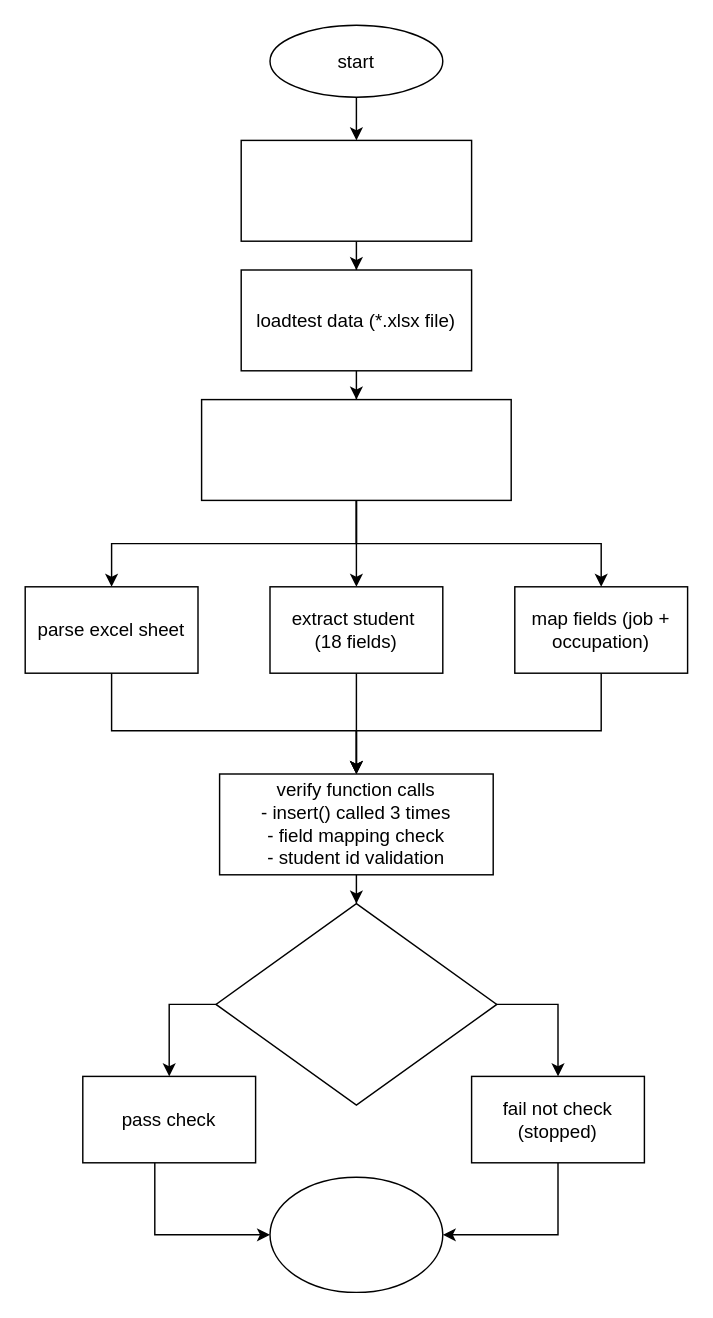
Some shapes in this 713 by 1318 pixel diagram are drawn without their labels. Here are the shapes that lost their labels. From the top down, the box of each, then its label:
(240, 139, 472, 241): Mock Dependencies (Drizzle ORM, ExcelJS, Schema)
(200, 398, 511, 500): execute function under test createBulkStudentFromExcel()
(215, 902, 497, 1105): check output data? student data okay? parent data okay? address data okay?
(269, 1176, 443, 1292): end
